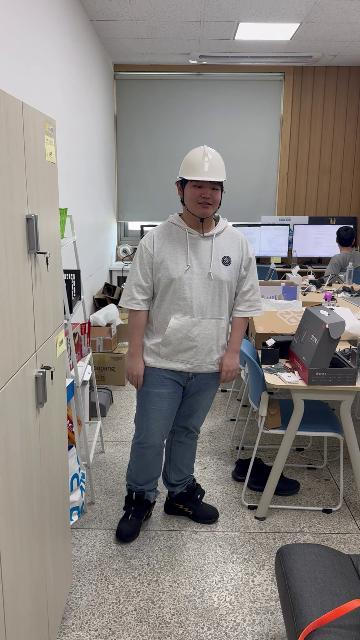helmet_worn: (175, 144, 229, 182)
shoe_not_worn: (230, 454, 293, 485), (246, 464, 299, 495)
shoe_worn: (164, 481, 218, 525), (114, 490, 157, 543)
vest_not_worn: (141, 217, 247, 374)
